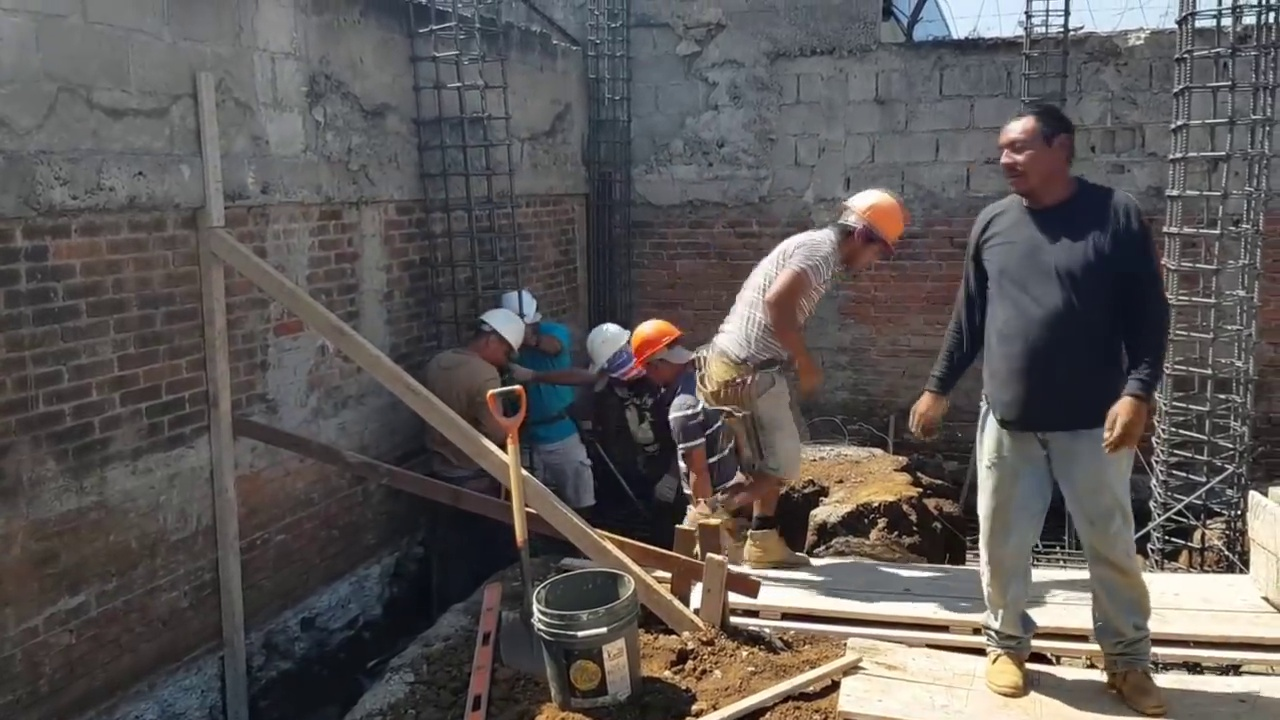helmet: (835, 190, 902, 252), (629, 321, 681, 373), (478, 308, 524, 359), (588, 322, 633, 373), (502, 289, 536, 320)
helmet-off: (997, 98, 1087, 200)
helmet-on: (830, 189, 905, 278), (635, 320, 694, 393), (458, 308, 525, 367), (586, 323, 635, 394), (501, 288, 544, 332)
person: (910, 105, 1173, 720), (712, 189, 907, 568), (633, 318, 745, 533), (421, 322, 534, 490), (499, 286, 583, 499), (589, 323, 661, 505)
